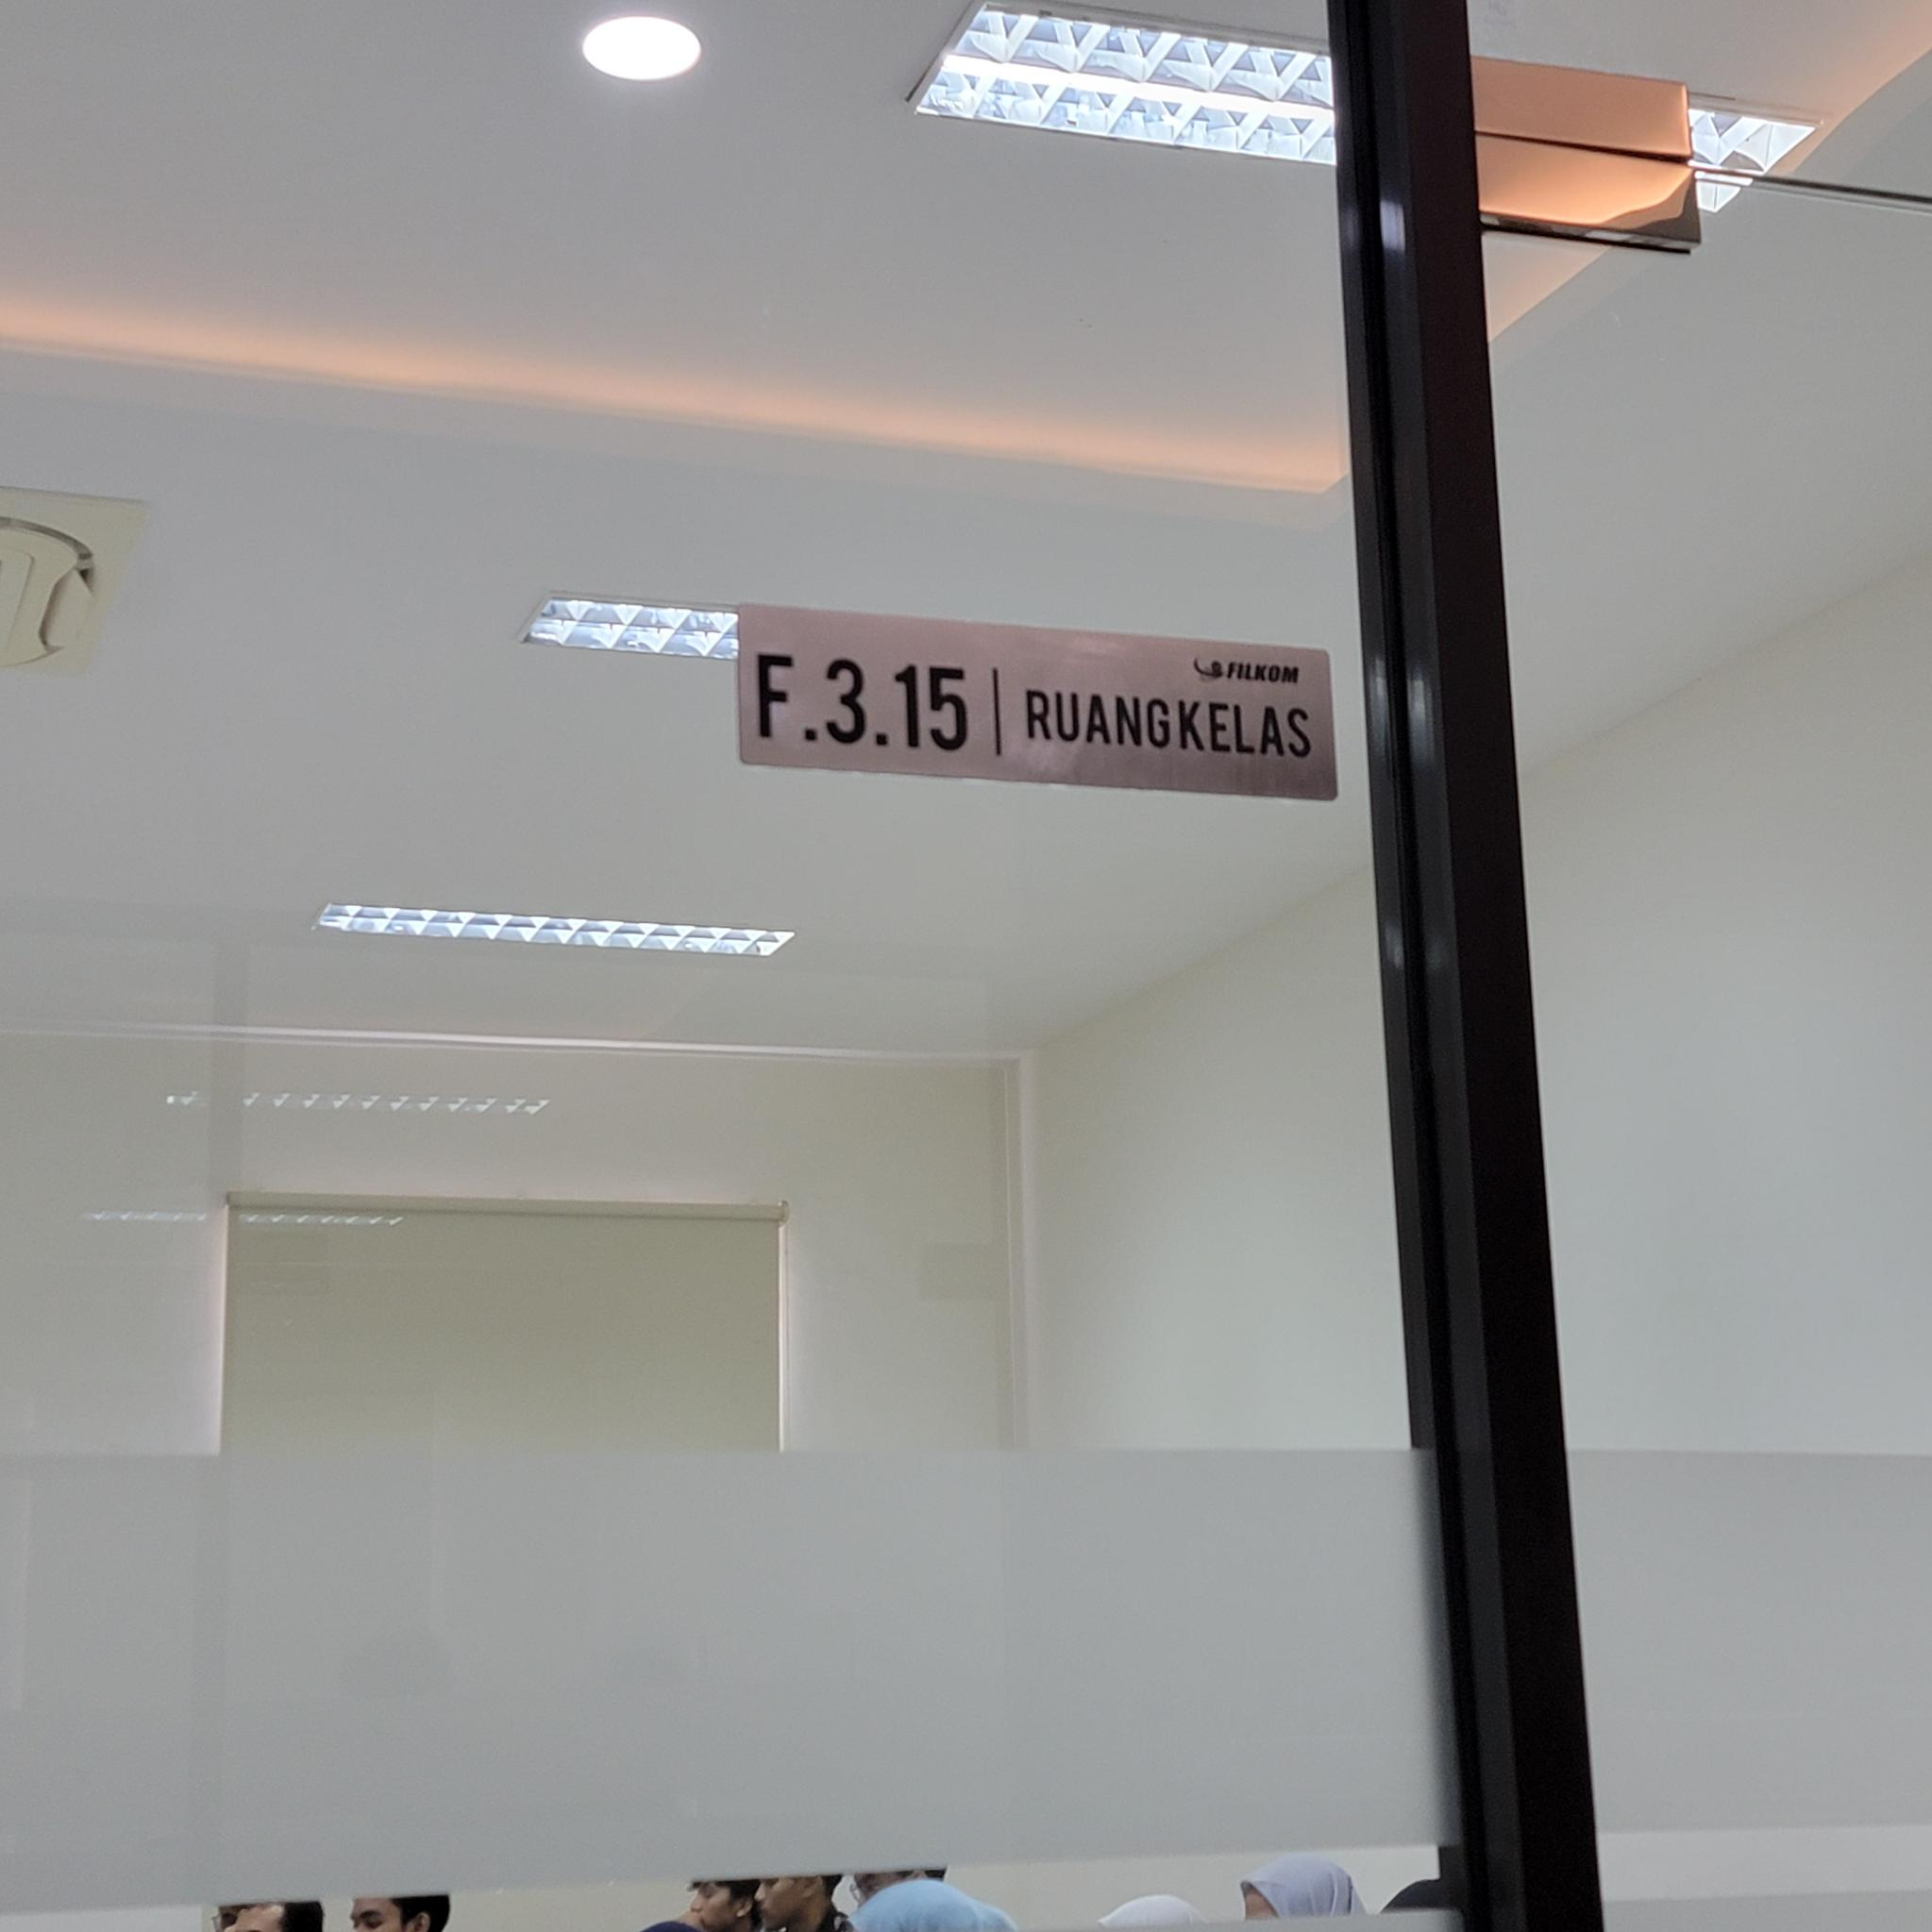plate: (736, 600, 1339, 803)
